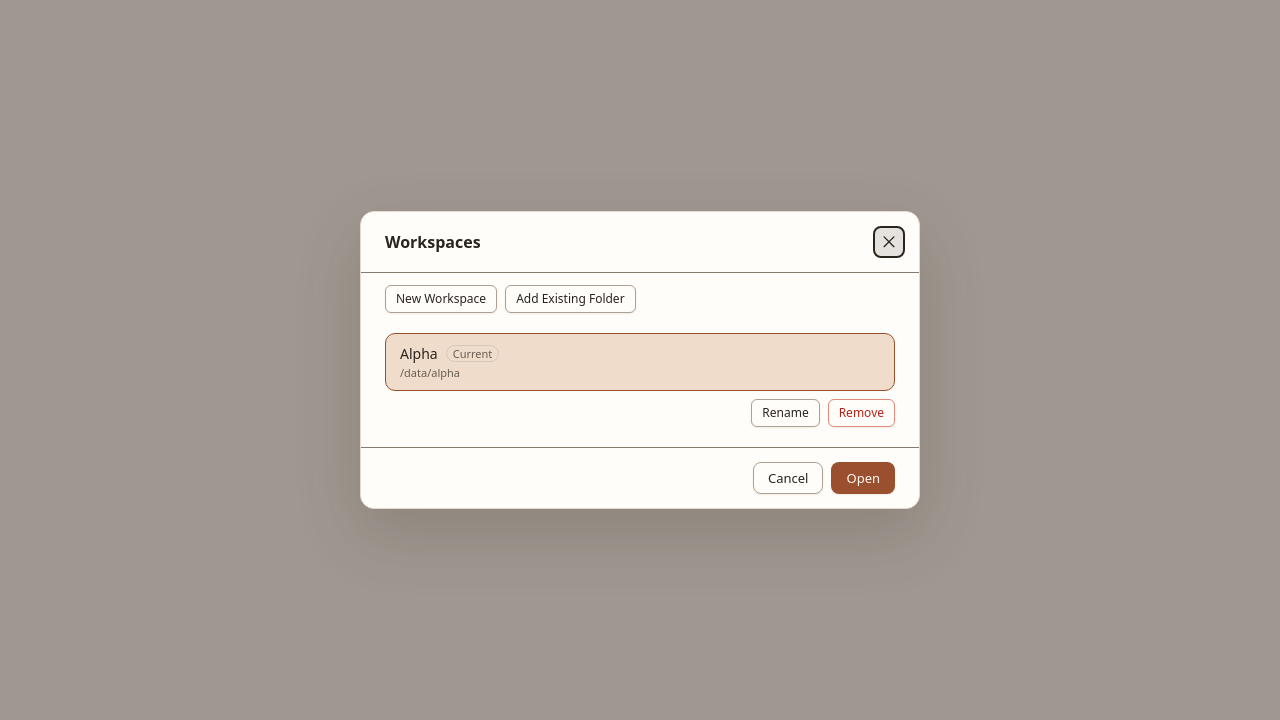
Test: WorkspaceModal — the list › disables the row actions and Open while a rename is open
Click the button "Rename" at (786, 413), box [751,399,820,427]
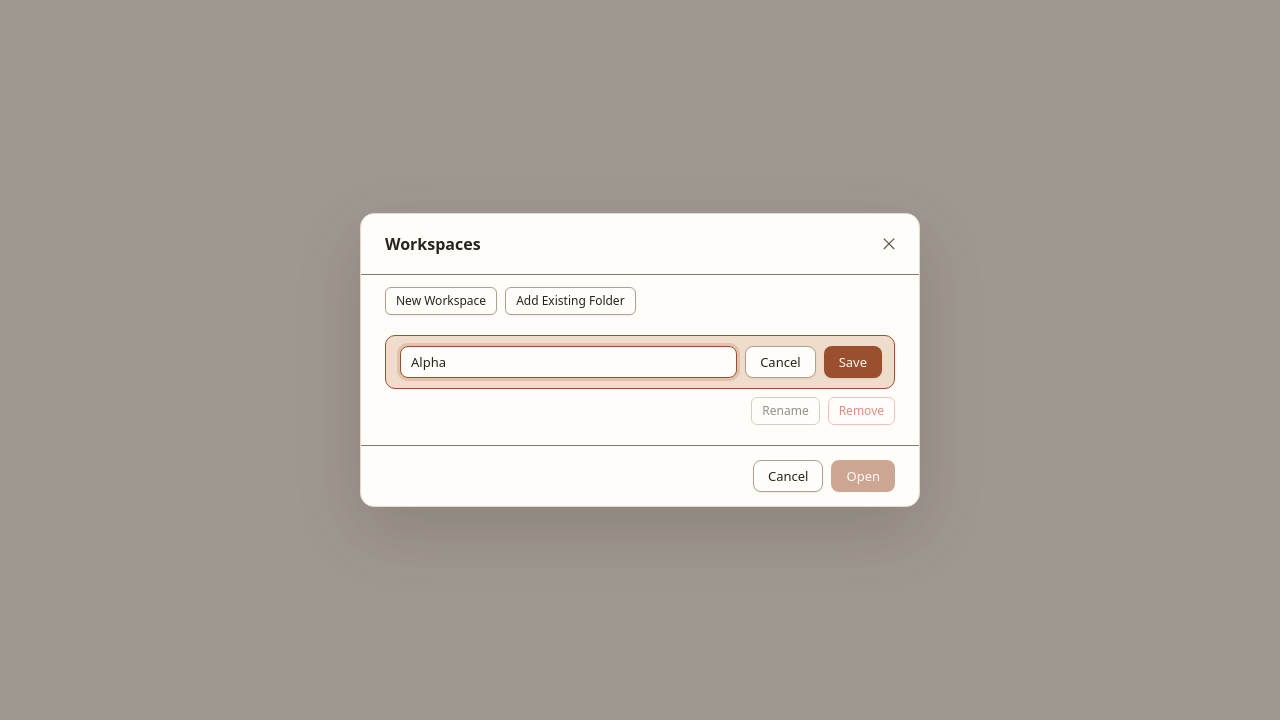
Expected: the button "Rename" is disabled, [751,397,820,425]
Expected: the button with class "btn-delete" is disabled, [828,397,895,425]
Expected: the button "Open" is disabled, [832,460,895,492]
